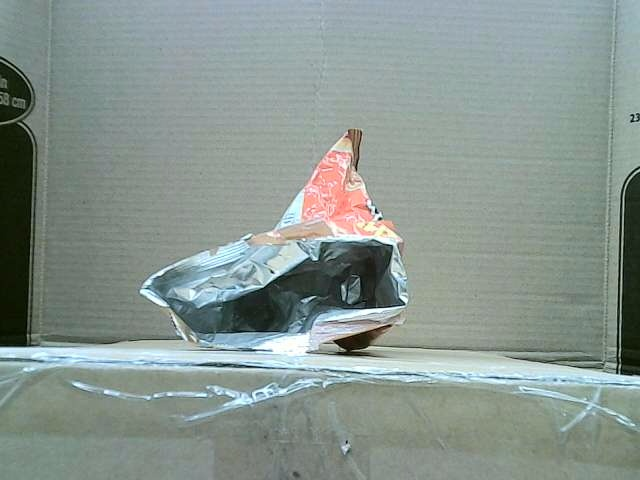Chips: (139, 129, 410, 356)
